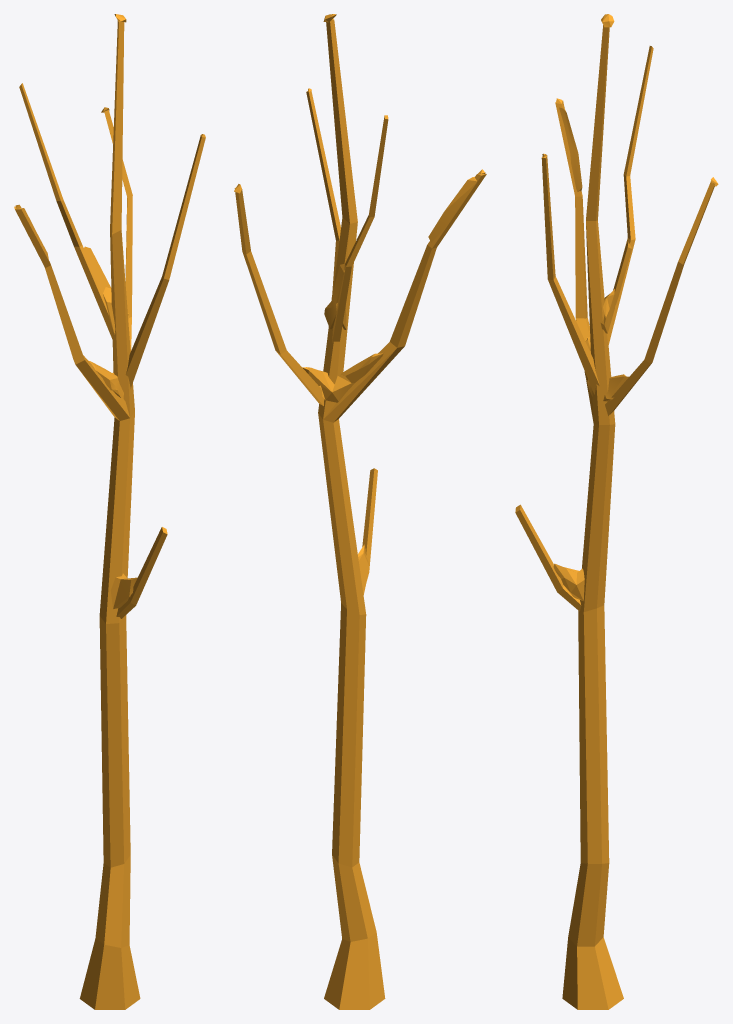
Rendered from SM_Tree_Willow_Weeping_Sapling_A_Bare_Snow.fbx.
3 renders of one model, left to right at view 1: azimuth 30°, elevation 25°; view 2: azimuth 150°, elevation 25°; view 3: azimuth 270°, elevation 25°, orthographic.
Parts seen in each view (by area): view 1: tree-willow-weeping-sapling-a-bare-snow; view 2: tree-willow-weeping-sapling-a-bare-snow; view 3: tree-willow-weeping-sapling-a-bare-snow.
Part boxes in pixels (x1,y1,x2,y2): tree-willow-weeping-sapling-a-bare-snow: (14, 14, 205, 1009); tree-willow-weeping-sapling-a-bare-snow: (234, 14, 486, 1009); tree-willow-weeping-sapling-a-bare-snow: (515, 14, 718, 1009).
Size of the model in its own units: 0.3843 by 1.95 by 0.3615.
